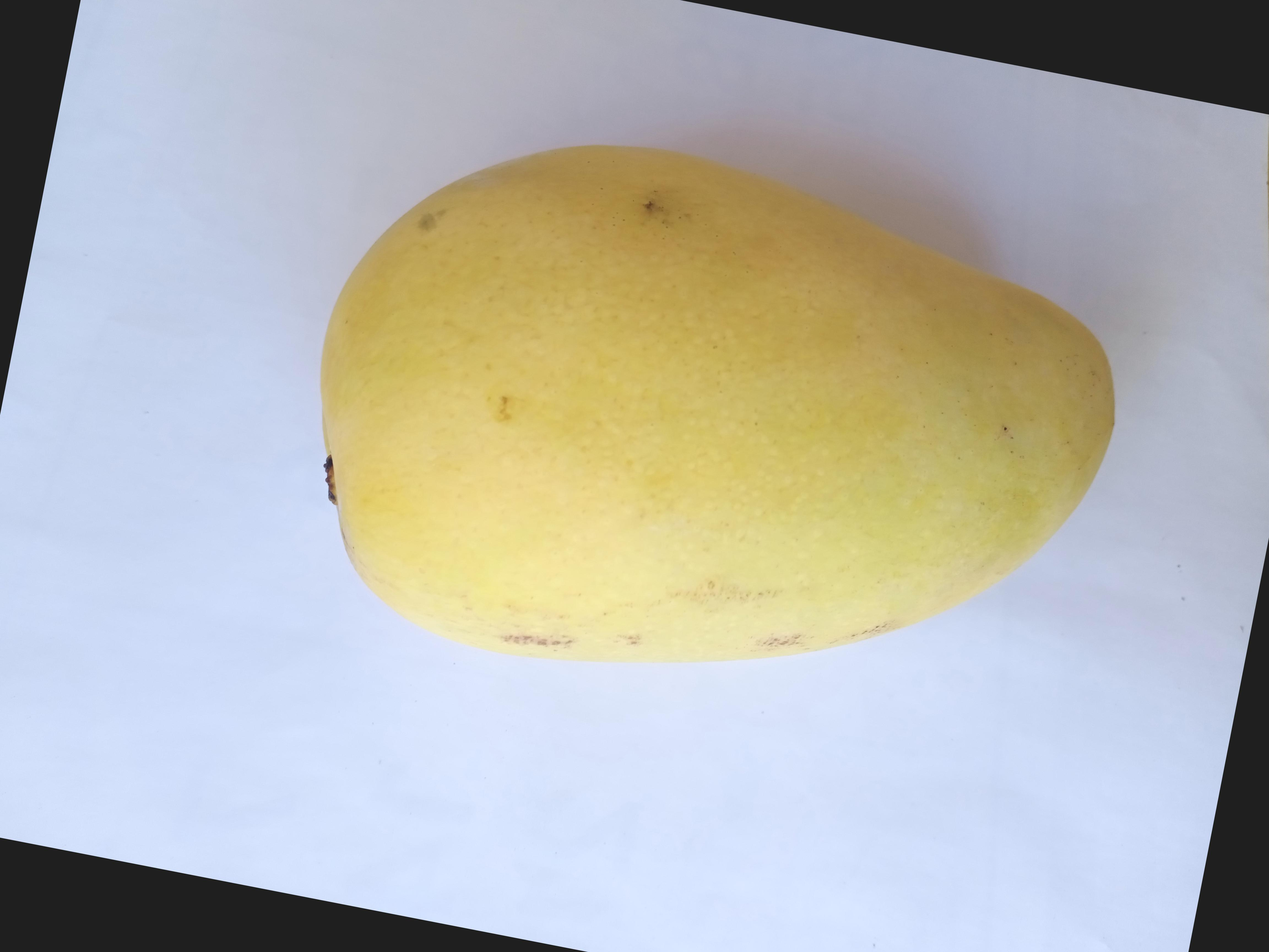Mango Ripe: (345, 0, 1269, 651)
